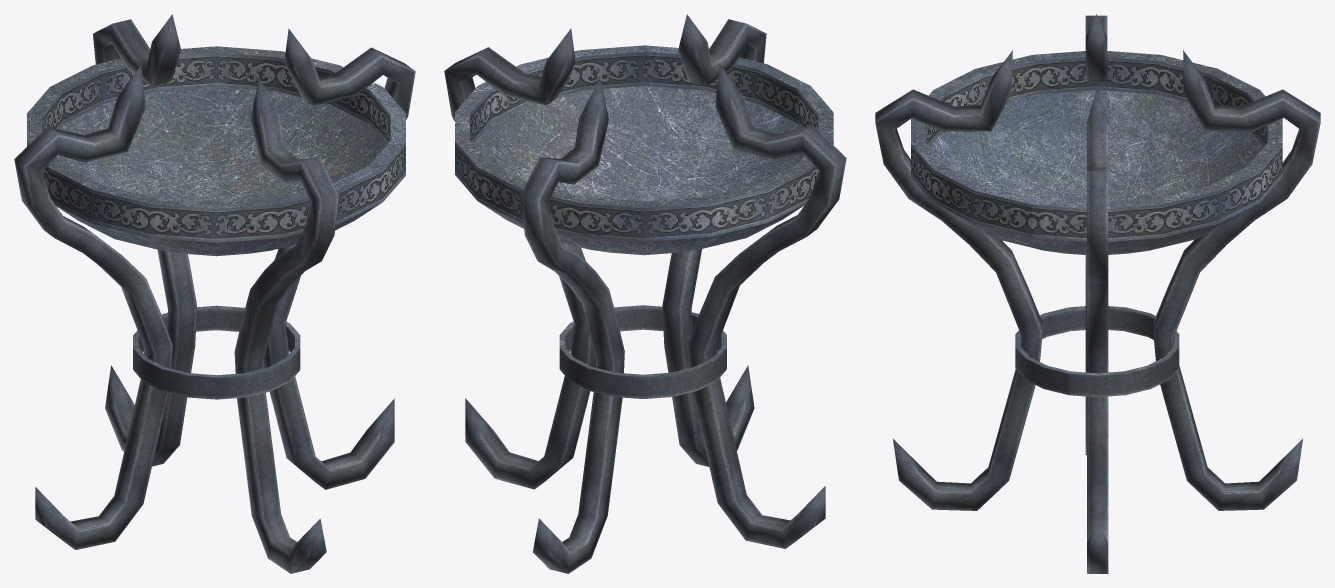
File: FireBowl.FBX
The picture shows the model from 3 angles, left to right: view 1: azimuth 30°, elevation 25°; view 2: azimuth 150°, elevation 25°; view 3: azimuth 270°, elevation 25°; orthographic projection.
Parts seen in each view (by area): view 1: Cylinder04; view 2: Cylinder04; view 3: Cylinder04.
Boxes of the visible parts, bbox=[...] form: Cylinder04: bbox=[14, 14, 415, 573]; Cylinder04: bbox=[444, 14, 846, 573]; Cylinder04: bbox=[875, 14, 1320, 573].
Size of the model in its own units: 127 by 144 by 127.
Materials: 1 (1 with a texture image).
